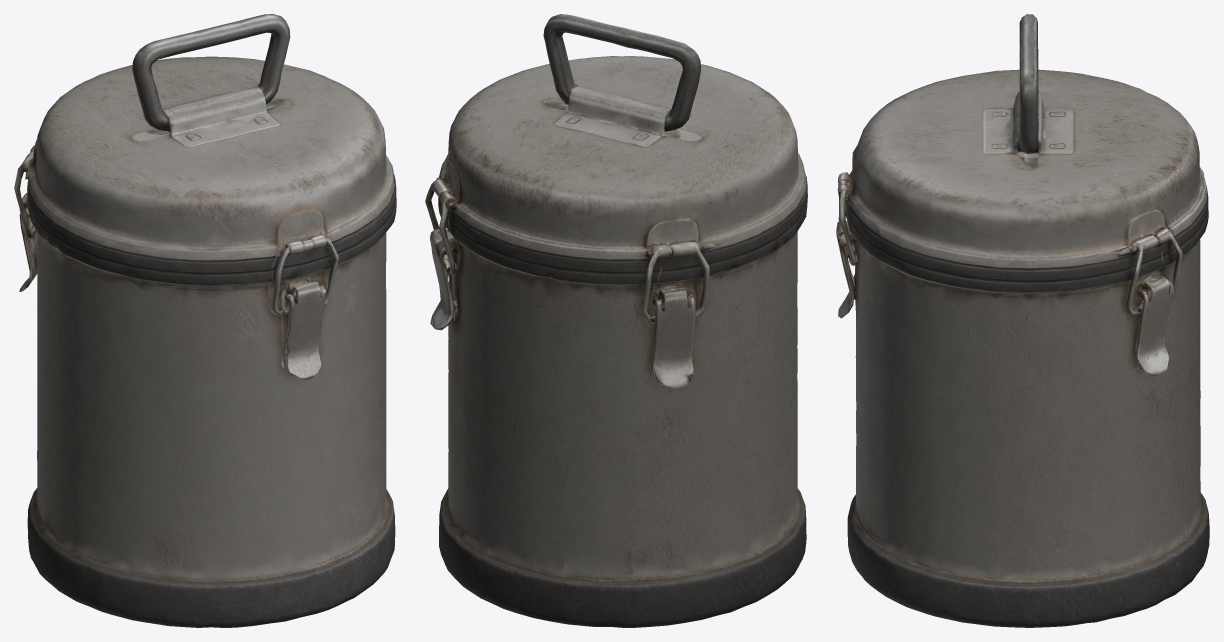
The model's file is B3_SealedSampleCarrier.glb.
3 renders of one model, left to right at view 1: azimuth 30°, elevation 25°; view 2: azimuth 150°, elevation 25°; view 3: azimuth 270°, elevation 25°, orthographic. The views are drawn at different scales.
Parts seen in each view (by area): view 1: texture_mapping; view 2: texture_mapping; view 3: texture_mapping.
Boxes of the visible parts, x1,y1,x2,y2 form: texture_mapping: [14, 14, 396, 627]; texture_mapping: [425, 14, 807, 627]; texture_mapping: [836, 14, 1209, 627].
Bounding box in the file's own units: 0.6373 × 1 × 0.6592.
1 material, 1 textured.
